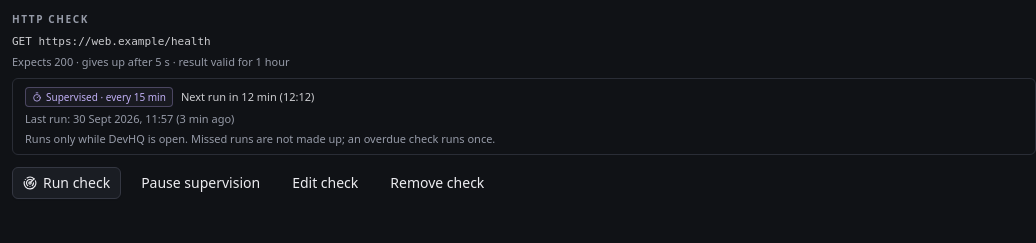
Test: supervision of a check › shows an active check’s interval, last and next run, and pauses it
Expected: the text "Supervised · every 15 min" is shown, [25,87,173,107]
Expected: the text "Last run: 30 Sept 2026, 11:57 (3 min ago)" is shown, [25,111,234,126]
Click the button "Pause supervision": (201, 183) [129,167,272,199]
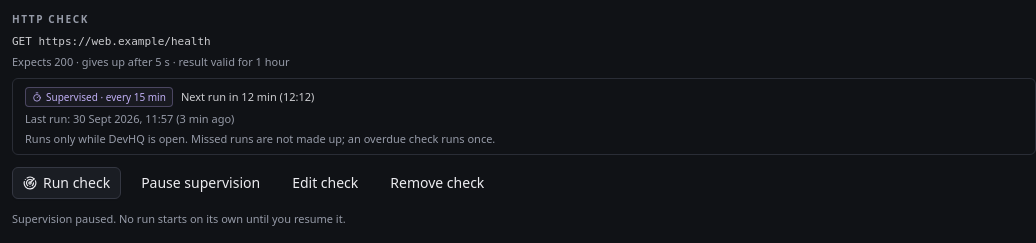
Expected: the message reads "Supervision paused. No run starts on its own until you resume it.", [12,211,346,226]
